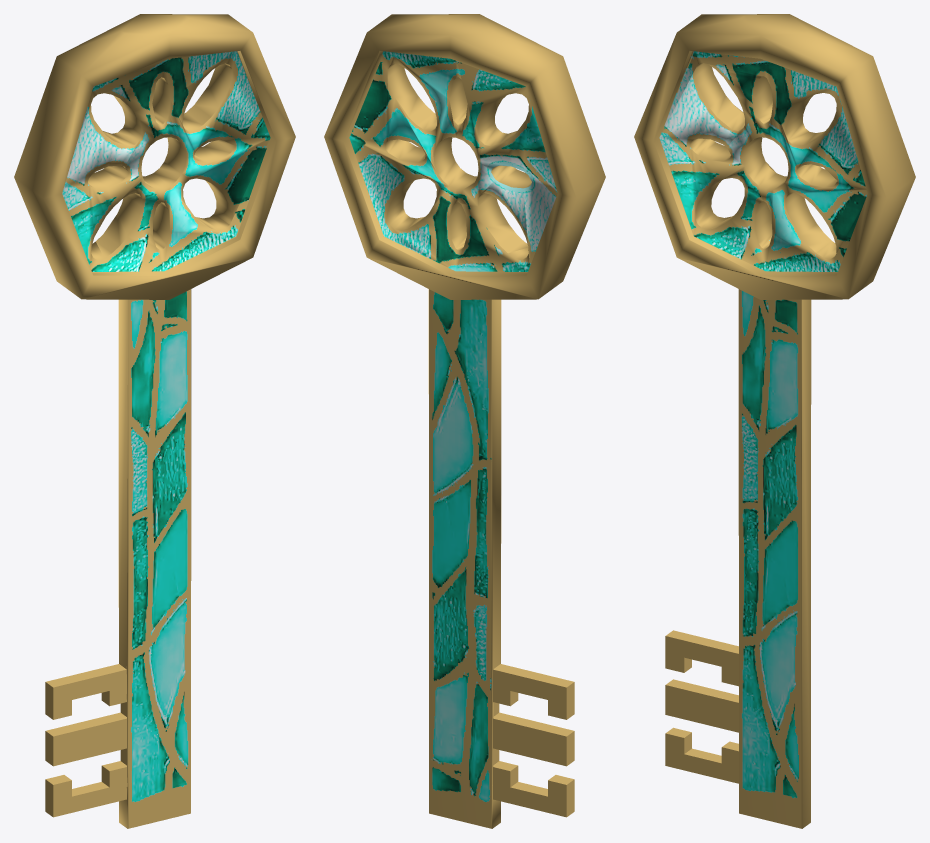
The model's file is key03.glb.
3 views of the same model, side by side, from view 1: azimuth 30°, elevation 25°; view 2: azimuth 150°, elevation 25°; view 3: azimuth 330°, elevation 25° (orthographic).
Visible parts, largest first — view 1: key03; view 2: key03; view 3: key03.
Part boxes in pixels (x1=…): key03: x1=14, y1=14, x2=295, y2=828; key03: x1=324, y1=14, x2=605, y2=828; key03: x1=634, y1=14, x2=915, y2=828.
Size of the model in its own units: 0.25 by 0.75 by 0.05.
2 materials, 1 textured.
